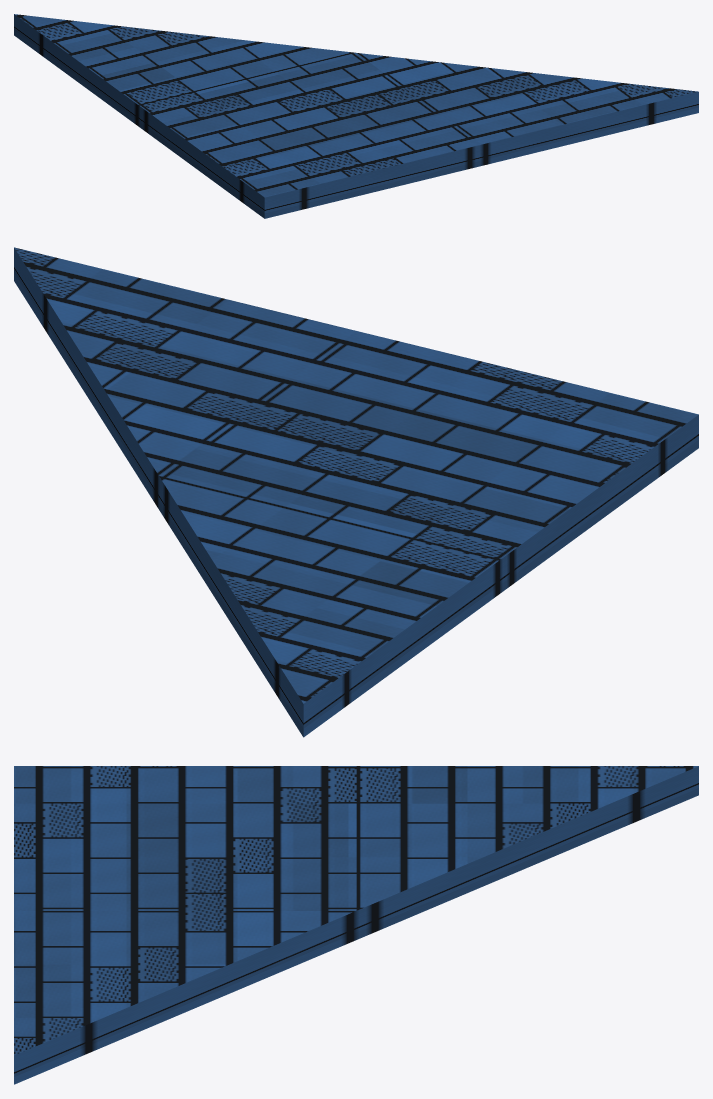
File: theodosian blue roof inverse.glb
3 views of the same model, one above another, from view 1: azimuth 30°, elevation 25°; view 2: azimuth 150°, elevation 25°; view 3: azimuth 270°, elevation 25° (orthographic). The views are drawn at different scales.
Visible parts, largest first — view 1: Theodosian_blue_inverse; view 2: Theodosian_blue_inverse; view 3: Theodosian_blue_inverse.
Part boxes in pixels (x1,y1,x2,y2): Theodosian_blue_inverse: [14, 14, 698, 218]; Theodosian_blue_inverse: [14, 247, 698, 737]; Theodosian_blue_inverse: [14, 766, 698, 1084].
Bounding box in the file's own units: 1 × 0.047 × 1.
Materials: 1 (1 with a texture image).
